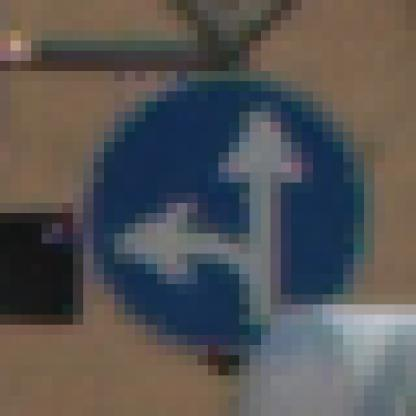Straight or Left: (63, 52, 365, 366)
